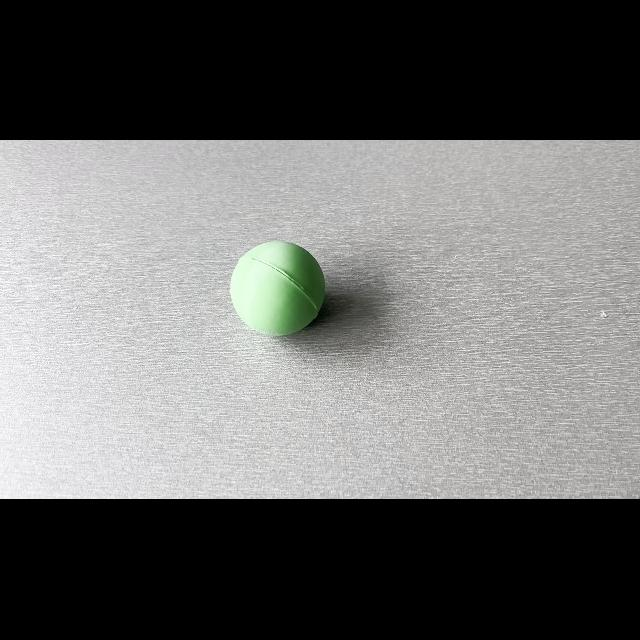objects: (226, 234, 334, 346)
